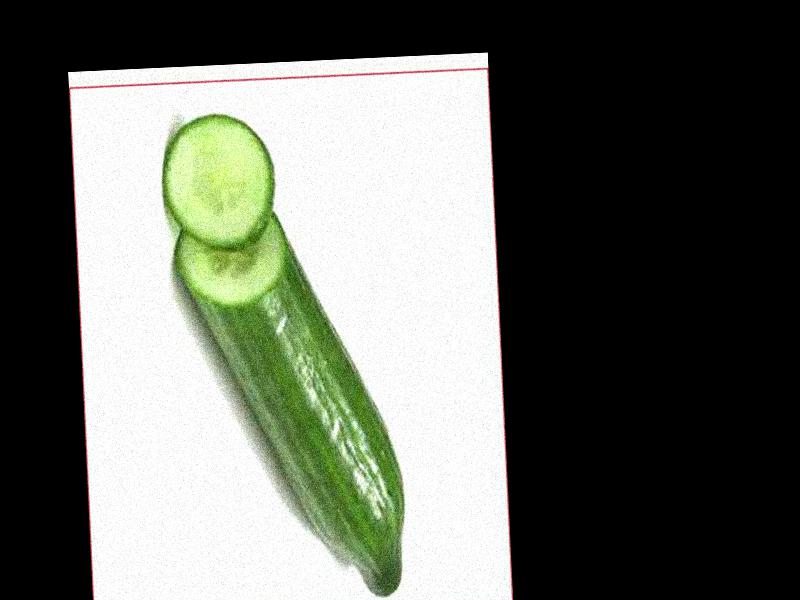Cucumber: (172, 200, 407, 600)
